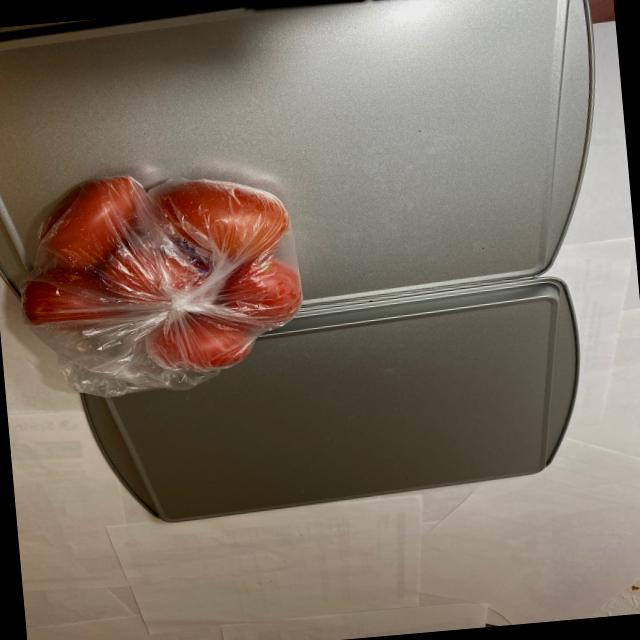tomato: (10, 150, 314, 386)
